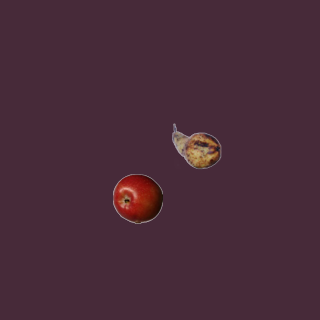Apple Braeburn: (112, 173, 162, 223)
Pear Abate: (171, 121, 221, 171)
